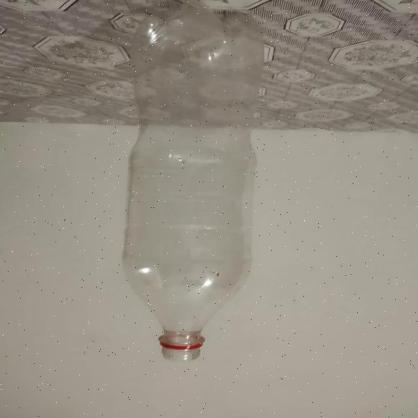bottle: (124, 3, 260, 364)
